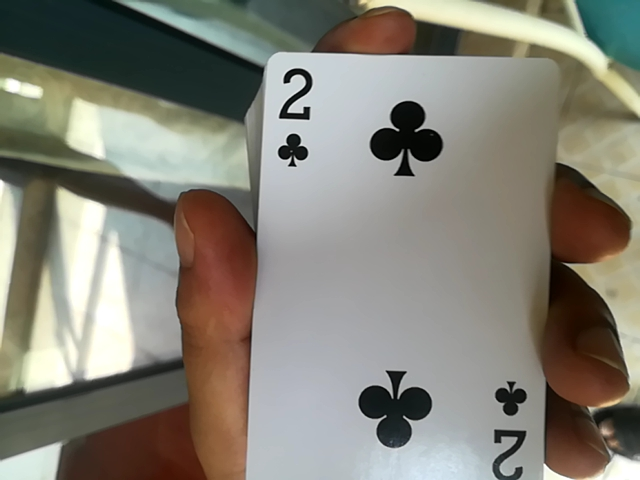mh 2: (225, 59, 576, 471)
